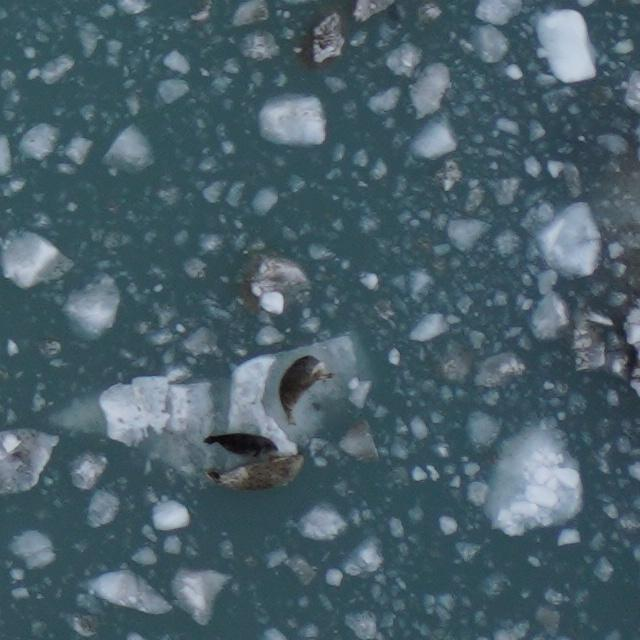seal: (275, 353, 338, 431), (205, 449, 309, 496), (201, 427, 281, 464)
